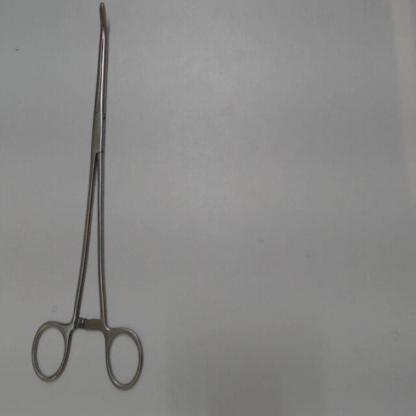Lahey Forceps: (26, 3, 150, 398)
